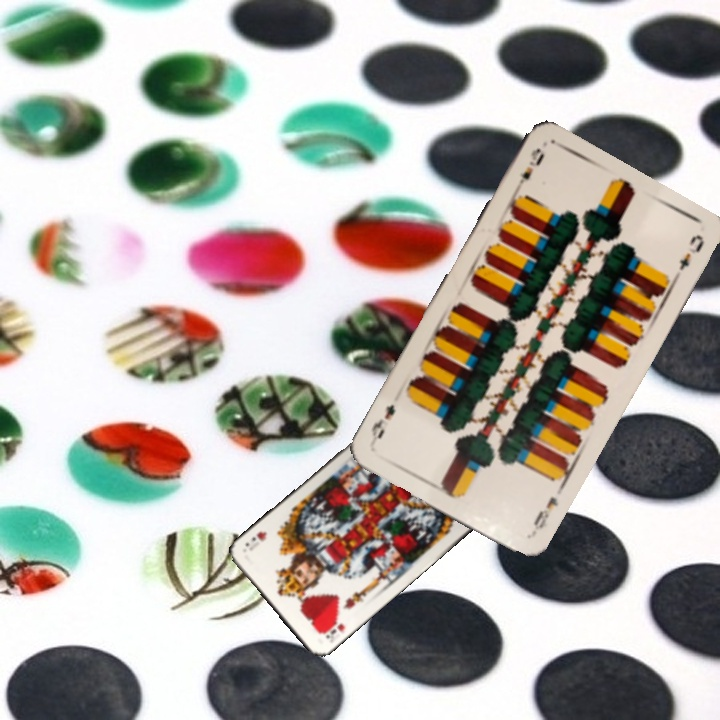E9: (510, 144, 548, 195), (529, 492, 561, 533)
HK: (316, 614, 347, 641)
